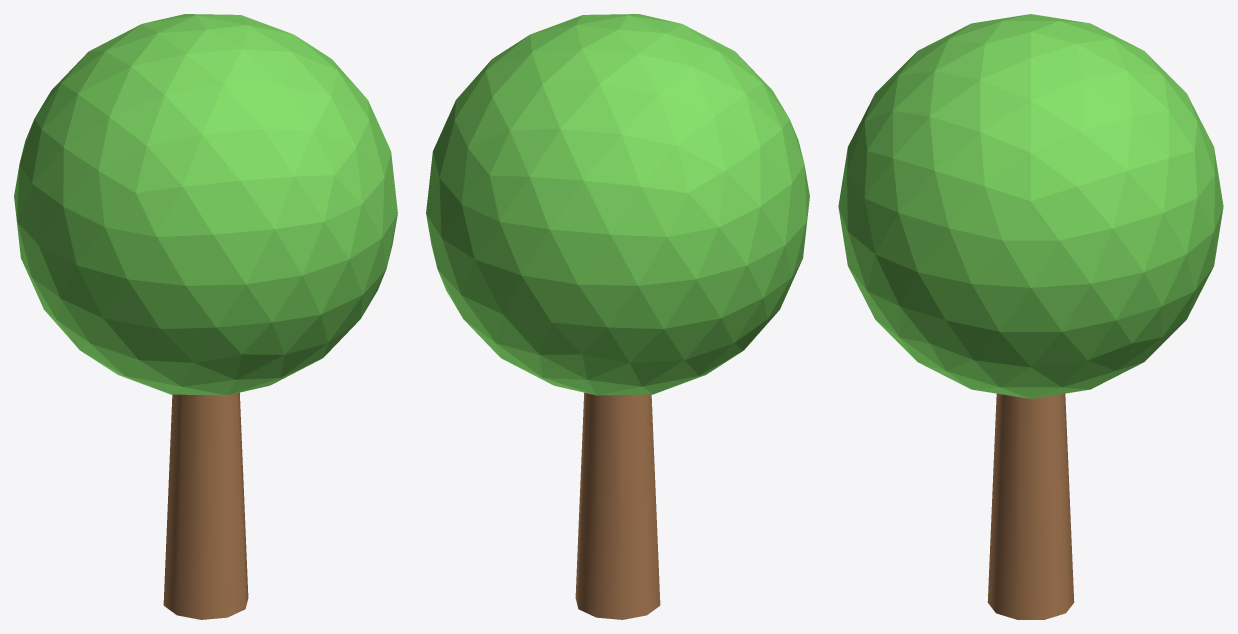
File: tree_round.glb
3 renders of one model, left to right at view 1: azimuth 30°, elevation 25°; view 2: azimuth 150°, elevation 25°; view 3: azimuth 270°, elevation 25°, orthographic.
Visible parts, largest first — view 1: TreeRoundMesh; view 2: TreeRoundMesh; view 3: TreeRoundMesh.
Boxes of the visible parts, <box> form: TreeRoundMesh: <box>14,14,397,619</box>; TreeRoundMesh: <box>426,14,809,619</box>; TreeRoundMesh: <box>838,14,1223,619</box>.
Size of the model in its own units: 2.45 by 4.01 by 2.45.
